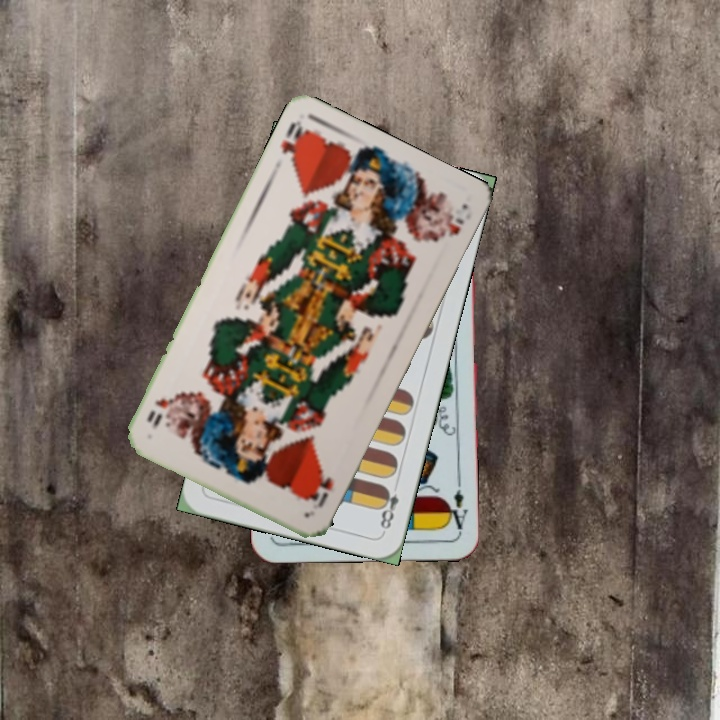E8: (376, 483, 402, 535)
EA: (443, 485, 470, 535)
HO: (276, 116, 312, 170), (304, 466, 336, 512)
